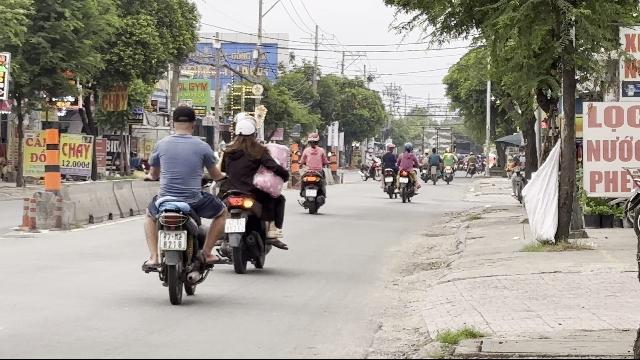helmet: (234, 114, 258, 138)
licenseplate: (159, 230, 185, 250), (225, 218, 245, 232)
motorcyclist: (137, 102, 225, 302), (216, 110, 288, 272)
nohelmet: (169, 104, 197, 134)
